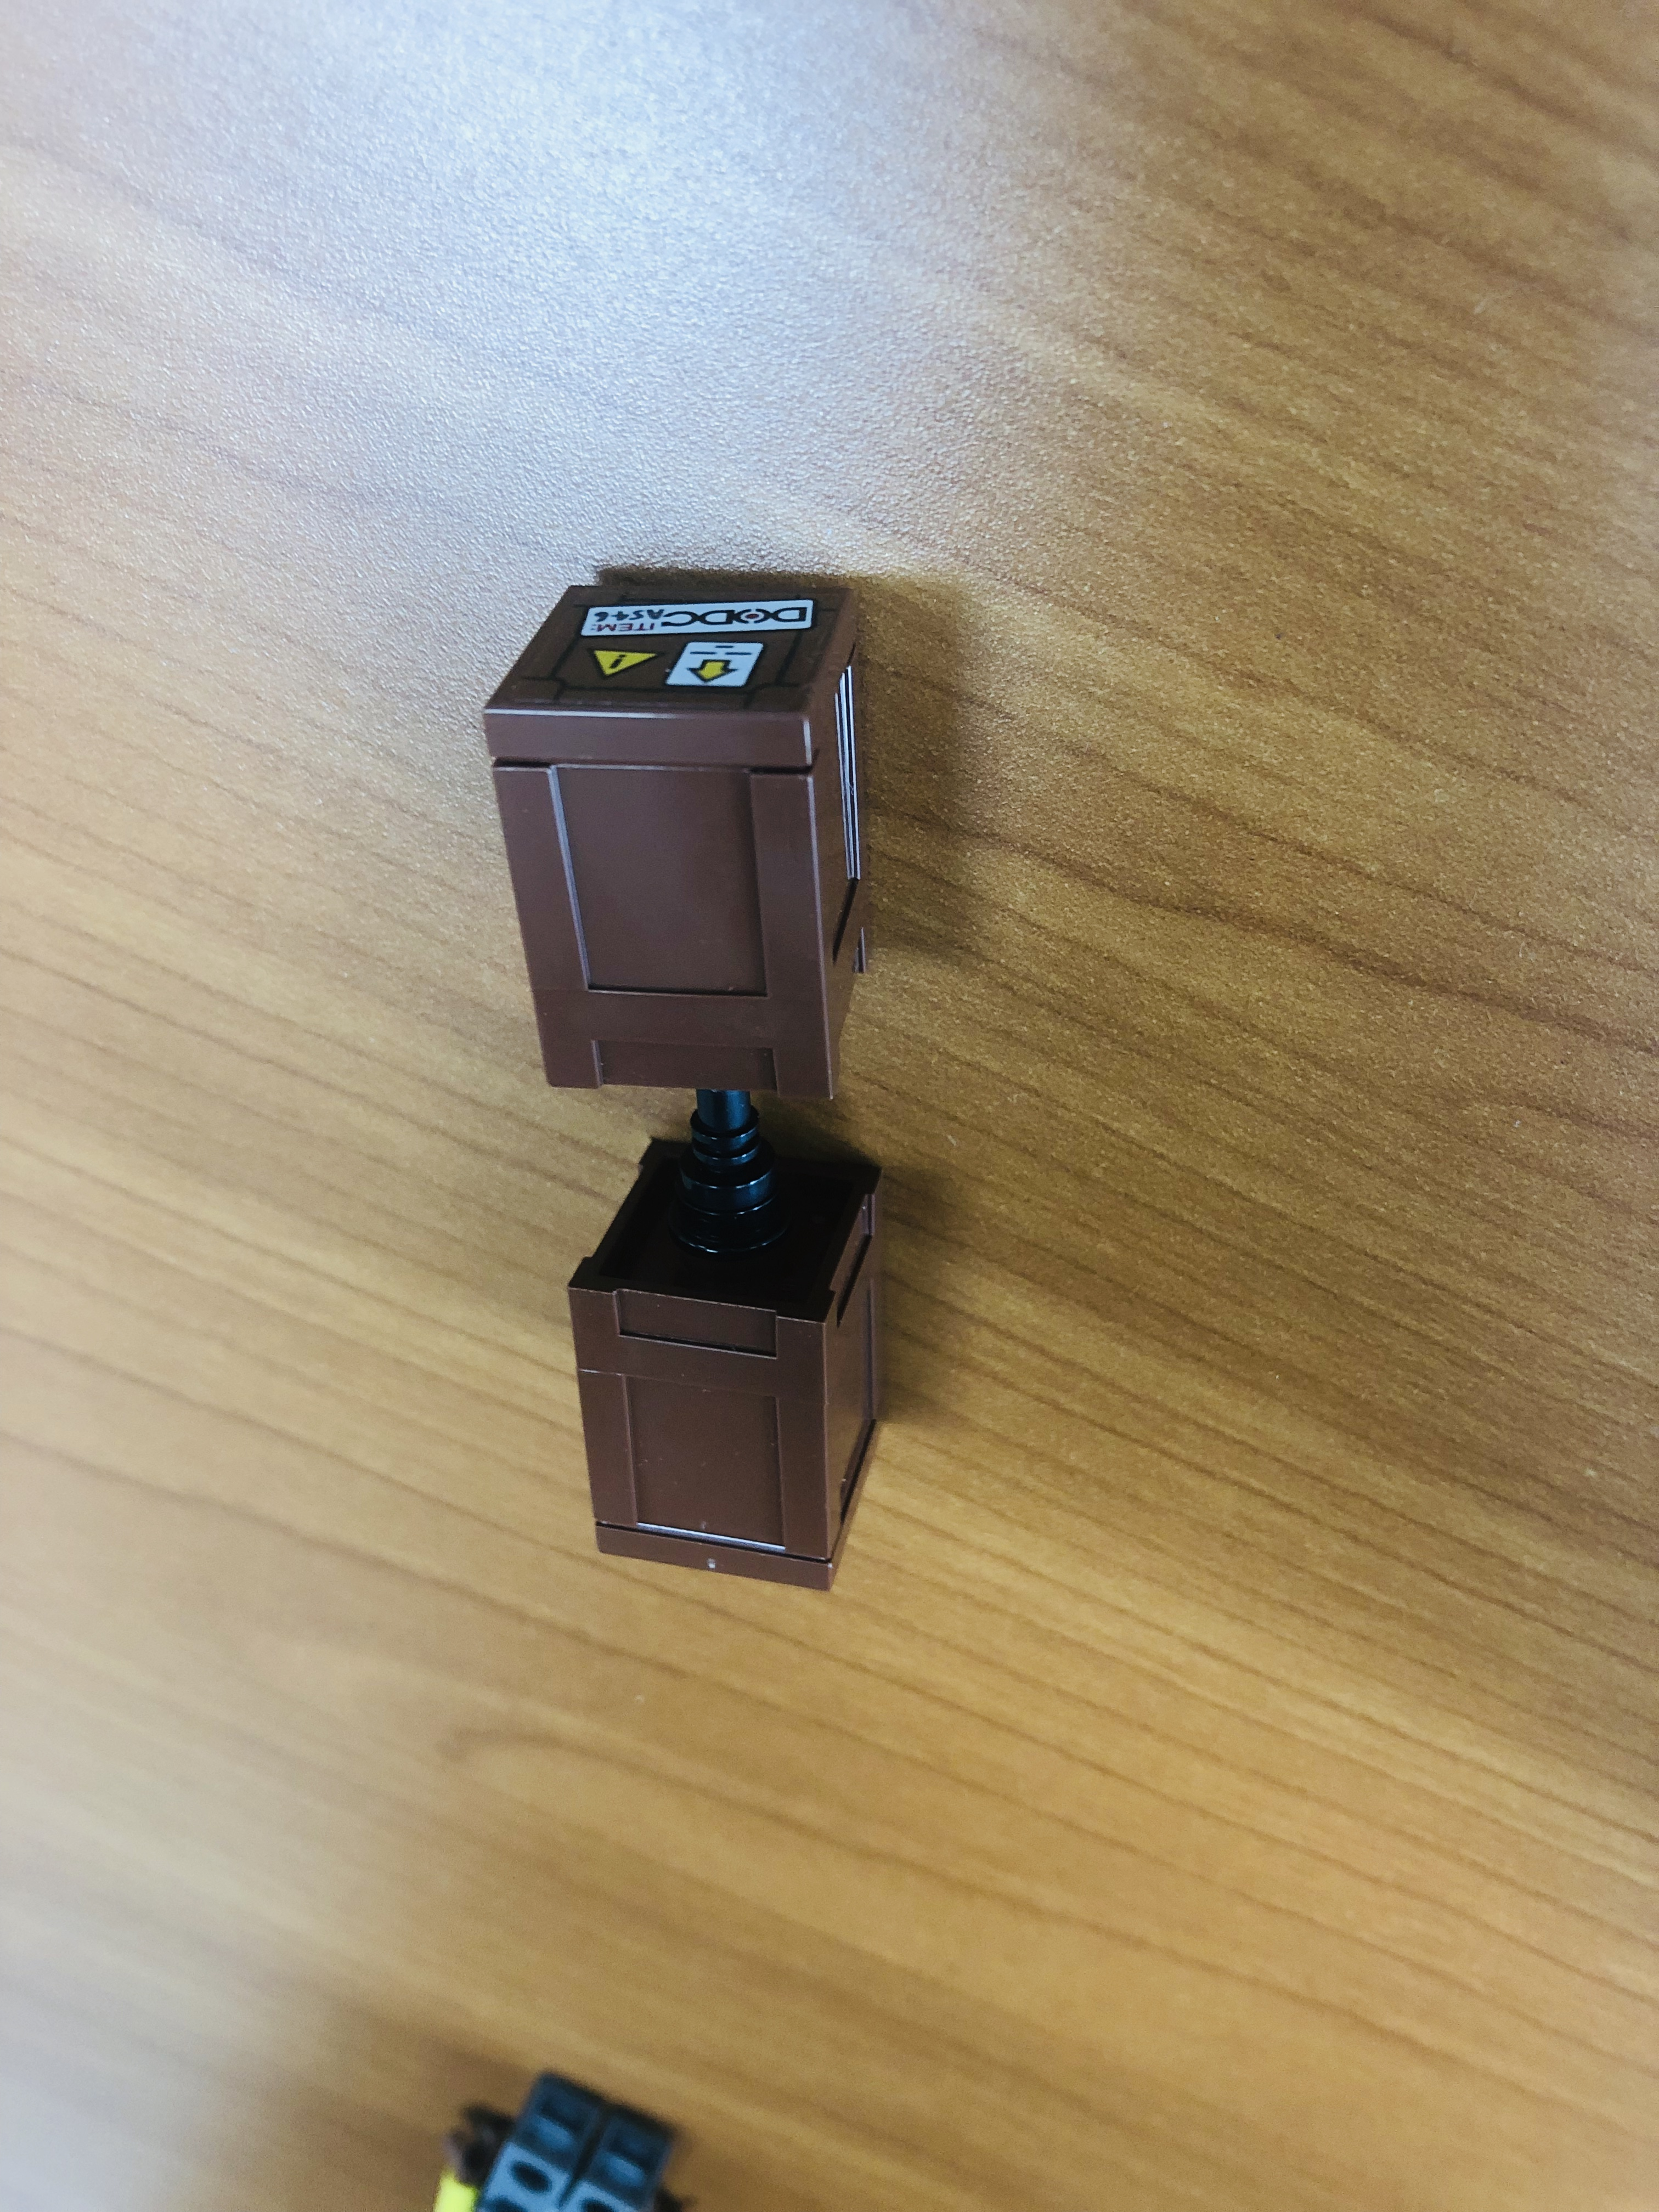box: (483, 579, 881, 1107), (563, 1139, 883, 1600)
